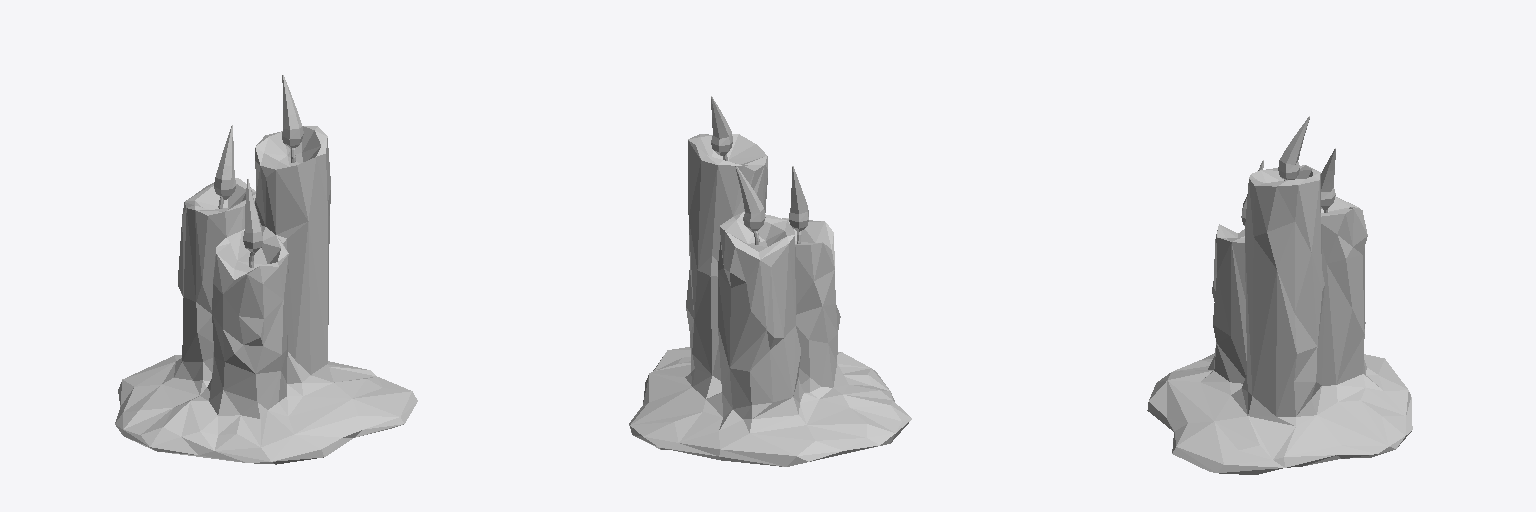
Rendered from candle13.obj.
The picture shows the model from 3 angles: view 1: azimuth 30°, elevation 25°; view 2: azimuth 150°, elevation 25°; view 3: azimuth 270°, elevation 25°; orthographic projection.
Parts seen in each view (by area): view 1: Object003, candleflame003, candleflame002, candleflame001; view 2: Object003, candleflame002, candleflame003, candleflame001; view 3: Object003, candleflame003, candleflame002.
Boxes of the visible parts, box(x1,y1,x2,y2) form: Object003: box(115, 126, 417, 464); candleflame003: box(282, 75, 303, 148); candleflame002: box(214, 125, 236, 199); candleflame001: box(243, 179, 262, 252); Object003: box(629, 134, 911, 466); candleflame002: box(735, 166, 765, 231); candleflame003: box(711, 96, 732, 155); candleflame001: box(789, 166, 808, 231); Object003: box(1147, 165, 1412, 474); candleflame003: box(1278, 116, 1309, 179); candleflame002: box(1321, 148, 1335, 209).
Size of the model in its own units: 1.05 by 1.23 by 0.9231.